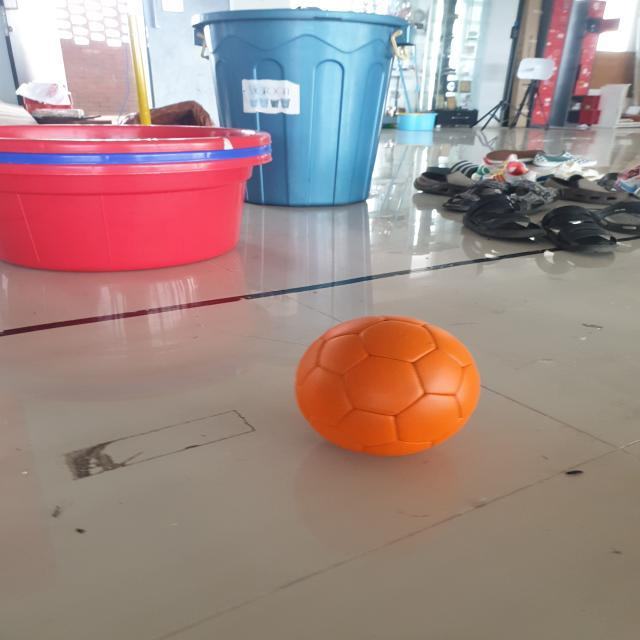bola: (292, 313, 486, 469)
